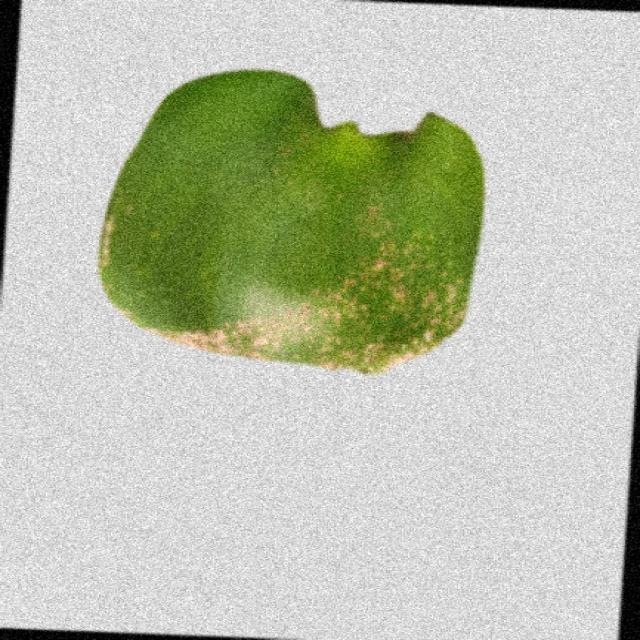daun berpenyakit bercak: (100, 71, 483, 373)
